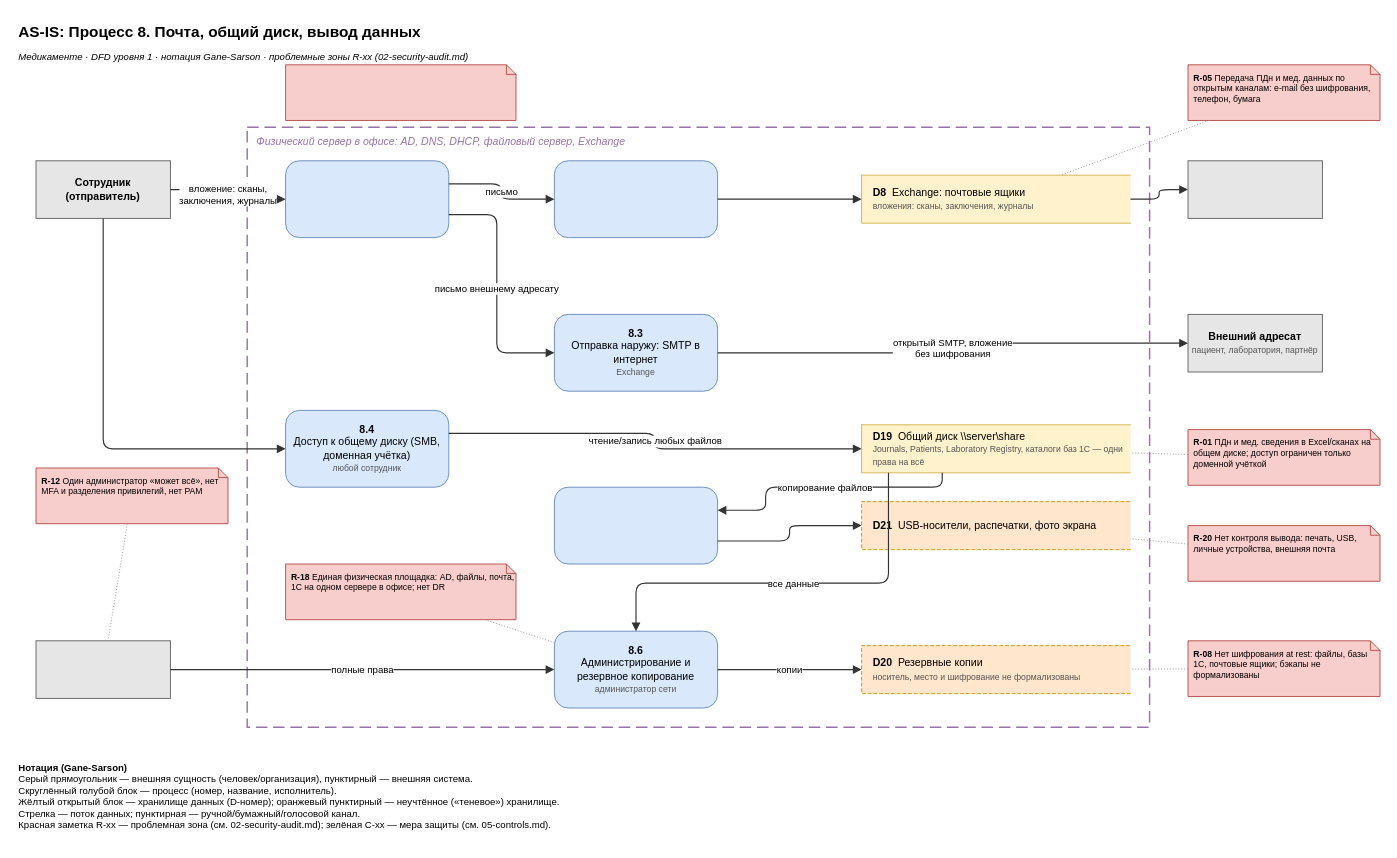
Image size: 1397x858. Some labels were removed from this diagram. Each missing label, with the centre of its shape:
8.1 Отправка письма с вложением любой сотрудник: pixel 367 199
8.2 Доставка внутри домена Exchange: pixel 635 199
8.5 Вывод: печать, USB, личные устройства любой сотрудник: pixel 635 525
R-02 Нет аудита: кто, когда и какие данные открыл, скопировал, изменил: pixel 400 92
Администратор сети: pixel 102 669
Сотрудник (получатель): pixel 1254 189
